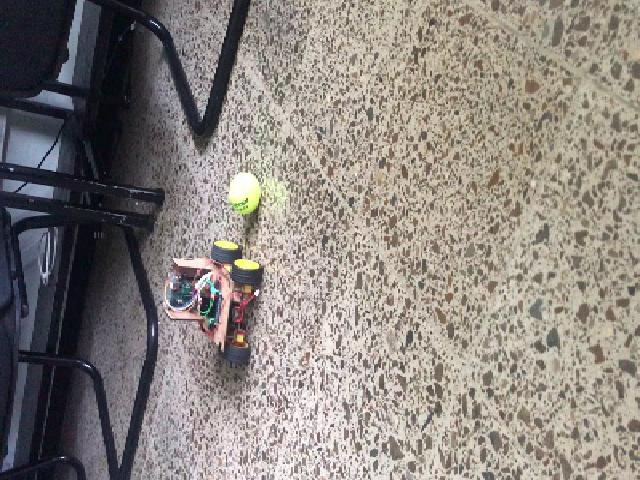Ball: (226, 172, 259, 215)
Robot: (162, 241, 261, 365)
